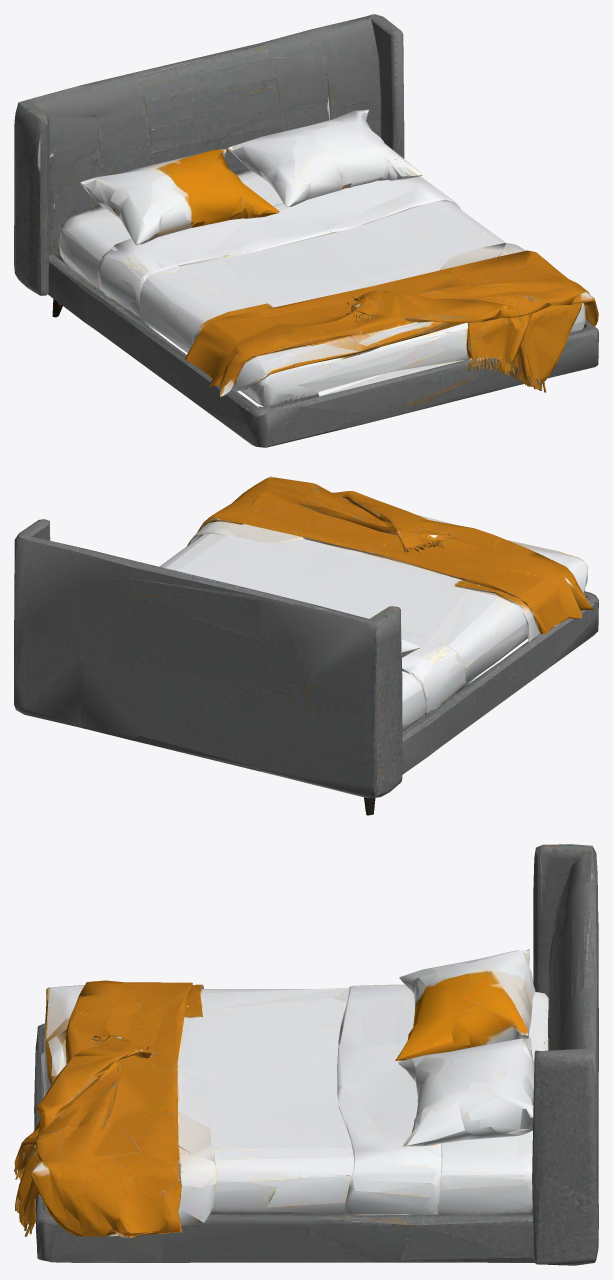
The model's file is double-bed-v1.glb.
3 views of the same model, one above another, from view 1: azimuth 30°, elevation 25°; view 2: azimuth 150°, elevation 25°; view 3: azimuth 270°, elevation 25° (orthographic). The views are drawn at different scales.
Size of the model in its own units: 1.88 by 0.9883 by 2.1.
1 material, 1 textured.
